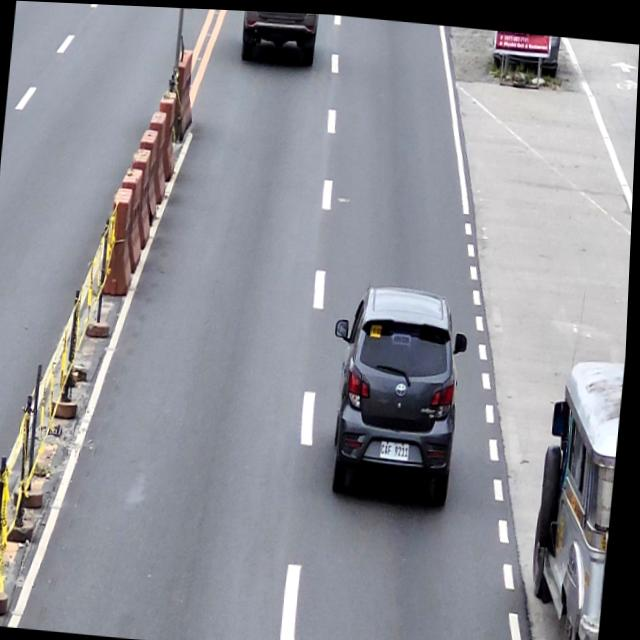Car: (324, 277, 475, 508), (239, 8, 319, 65)
Jeep: (525, 342, 629, 640)
License-Plate: (383, 436, 415, 460)
